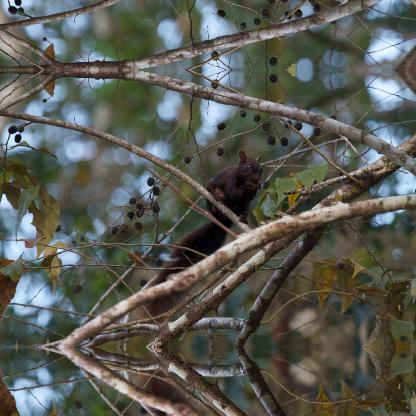Squirrel: (125, 144, 279, 318), (125, 373, 280, 415)
